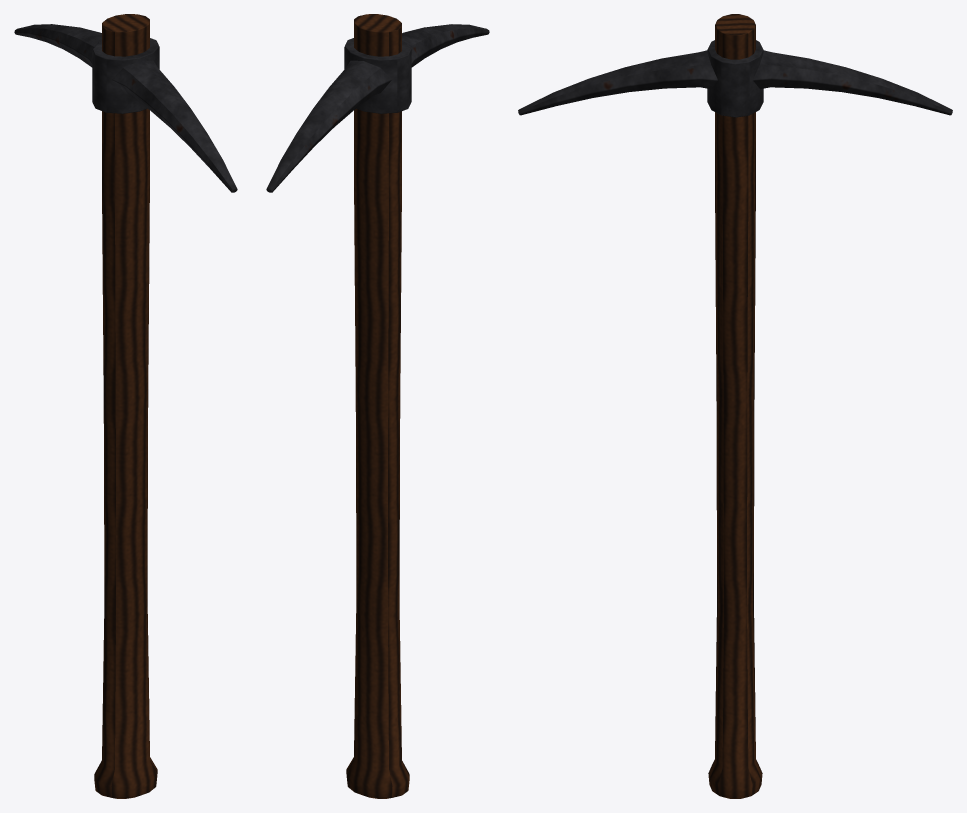
The model's file is iron_pick.glb.
The picture shows the model from 3 angles, left to right: view 1: azimuth 30°, elevation 25°; view 2: azimuth 150°, elevation 25°; view 3: azimuth 270°, elevation 25°; orthographic projection.
Visible parts, largest first — view 1: iron_pick; view 2: iron_pick; view 3: iron_pick.
Boxes of the visible parts, x1,y1,x2,y2 form: iron_pick: (14,14,237,798); iron_pick: (266,14,489,798); iron_pick: (518,14,952,798).
Size of the model in its own units: 0.065 by 0.78 by 0.4014.
2 materials, 2 textured.
